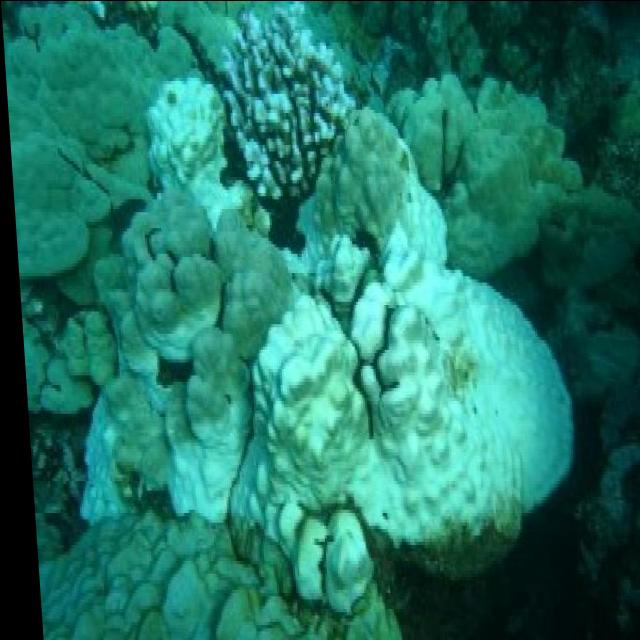Bleached Coral: (0, 1, 624, 580)
